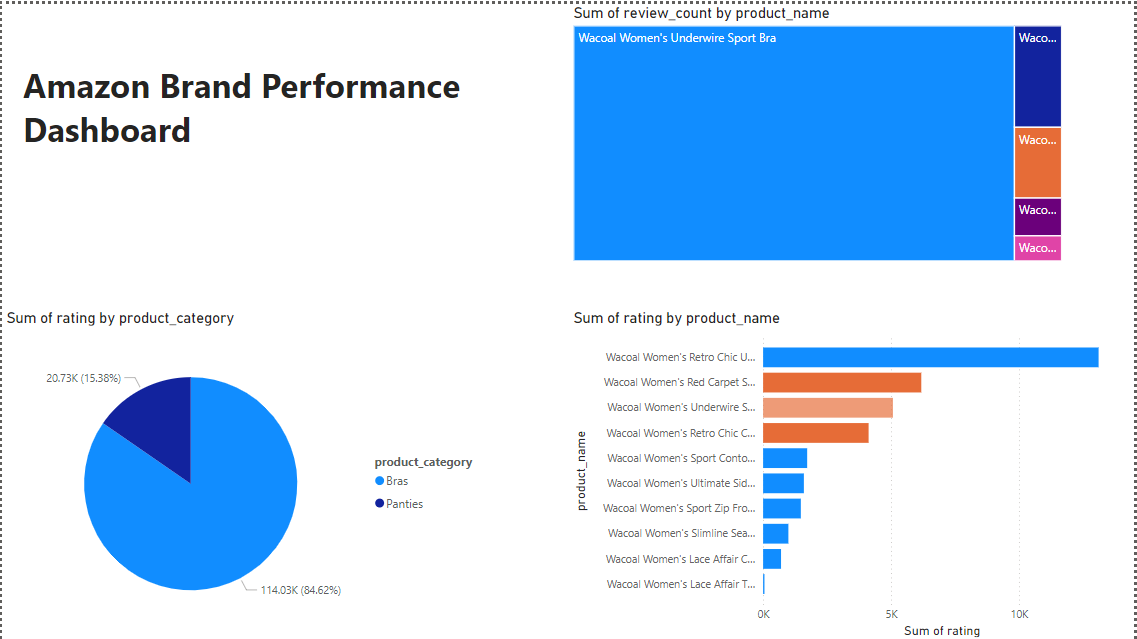

Layout of this report page (visuals, bound fields, positions):
{"tool":"powerbi","page":{"name":"Page 1","canvas":[1280,720],"ordinal":0},"visuals":[{"type":"pieChart","fields":{"Category":["1 amazon_com.product_category"],"Y":["Sum(1 amazon_com.rating)"]},"box":[0,343.9,551.8,376.1],"z":0},{"type":"clusteredBarChart","fields":{"Category":["1 amazon_com.product_name"],"Y":["Sum(1 amazon_com.rating)"]},"box":[640.6,343.9,638.7,376.1],"z":1},{"type":"treemap","fields":{"Group":["1 amazon_com.product_name"],"Values":["Sum(1 amazon_com.review_count)"]},"box":[640.6,0,561.3,294.8],"z":2},{"type":"textbox","box":[18.9,60.5,551.8,139.8],"z":3}]}

Visuals, with their boxes in screenshot pixels (x1, y1, x2, y2), scaled from the page's 1280x720 canvas onto the 1137x639 screenshot:
pieChart - 1 amazon_com.product_category x Sum(1 amazon_com.rating): [x1=0, y1=305, x2=490, y2=638]
clusteredBarChart - 1 amazon_com.product_name x Sum(1 amazon_com.rating): [x1=569, y1=305, x2=1136, y2=638]
treemap - 1 amazon_com.product_name x Sum(1 amazon_com.review_count): [x1=569, y1=0, x2=1068, y2=262]
textbox: [x1=17, y1=54, x2=507, y2=178]
